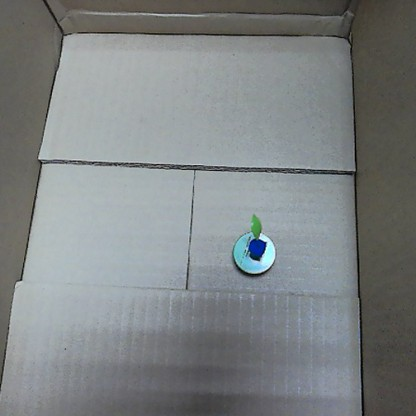leafairy: (229, 208, 279, 279)
